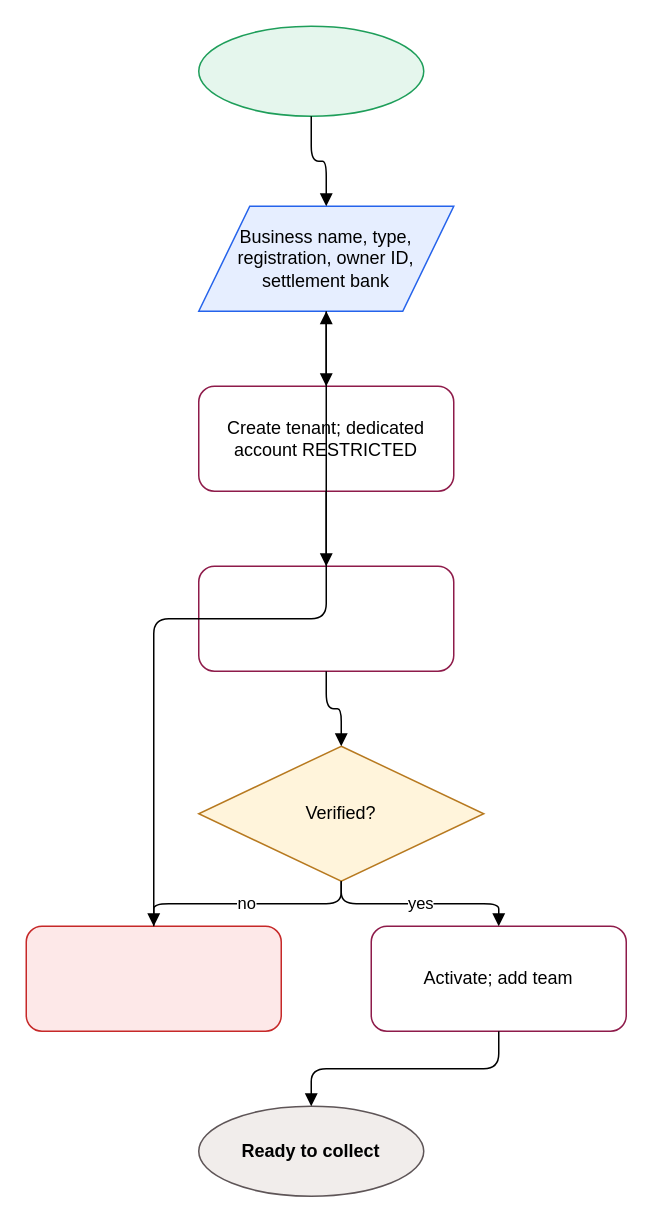
Some shapes in this 653 by 1223 pixel diagram are drawn without their labels. The centre of each missing label's shape, as x and y in pixels:
Owner taps Create business: the point at 310,70
Rejected with reason; resubmit: the point at 153,978
Verification review: the point at 325,618
